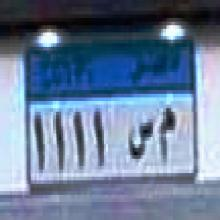1: (72, 106, 88, 174), (90, 108, 106, 175), (32, 107, 47, 178), (51, 109, 66, 172)
meem: (158, 103, 178, 171)
seen: (127, 114, 153, 169)
